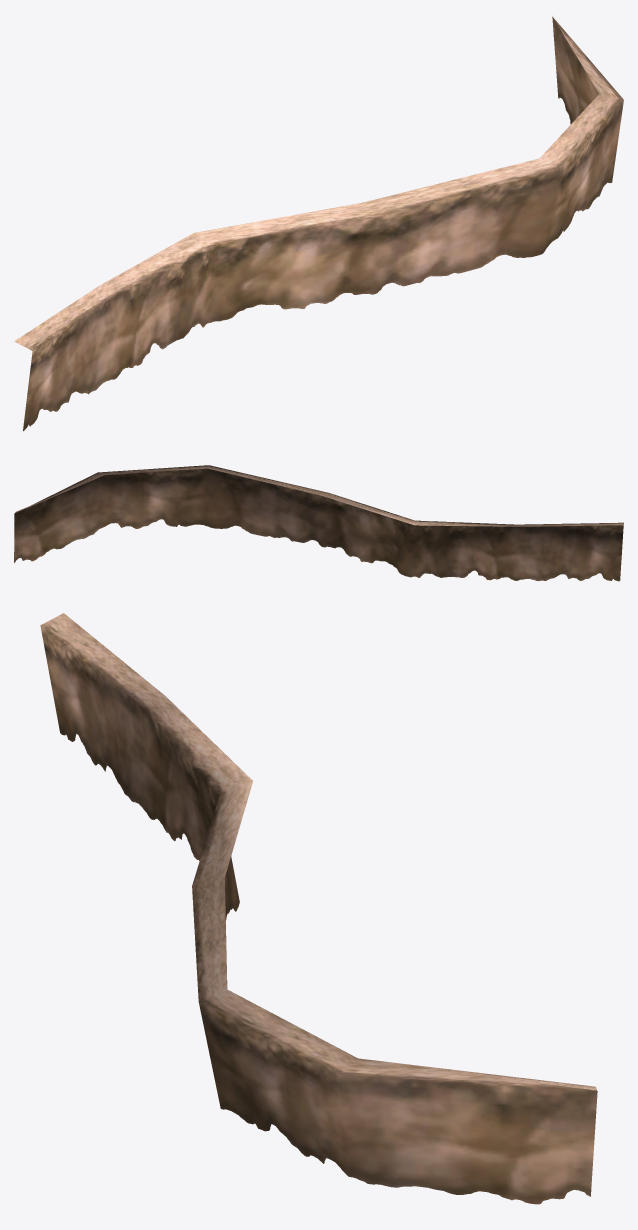
Rendered from EKH_CAVERNS_PS_CA_EDGE_GRAB93847.fbx.
The picture shows the model from 3 angles, top to bottom: view 1: azimuth 30°, elevation 25°; view 2: azimuth 150°, elevation 25°; view 3: azimuth 270°, elevation 25°; orthographic projection. The views are drawn at different scales.
Parts seen in each view (by area): view 1: EKH_CAVERNS_PS_CA_EDGE_GRAB93847; view 2: EKH_CAVERNS_PS_CA_EDGE_GRAB93847; view 3: EKH_CAVERNS_PS_CA_EDGE_GRAB93847.
Part boxes in pixels (x1,y1,x2,y2): EKH_CAVERNS_PS_CA_EDGE_GRAB93847: (14,16,623,431); EKH_CAVERNS_PS_CA_EDGE_GRAB93847: (14,465,623,581); EKH_CAVERNS_PS_CA_EDGE_GRAB93847: (40,613,597,1204).
Bounding box in the file's own units: 44924 × 6096 × 22651.
1 material, 1 textured.
